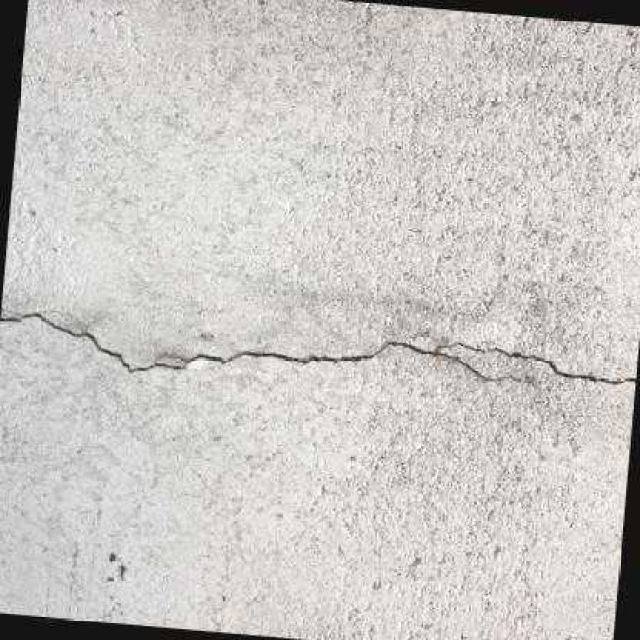D00: (0, 313, 636, 389)
